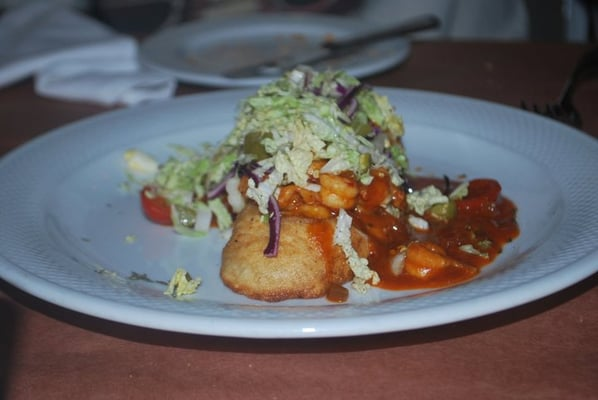burger: (520, 42, 598, 140)
